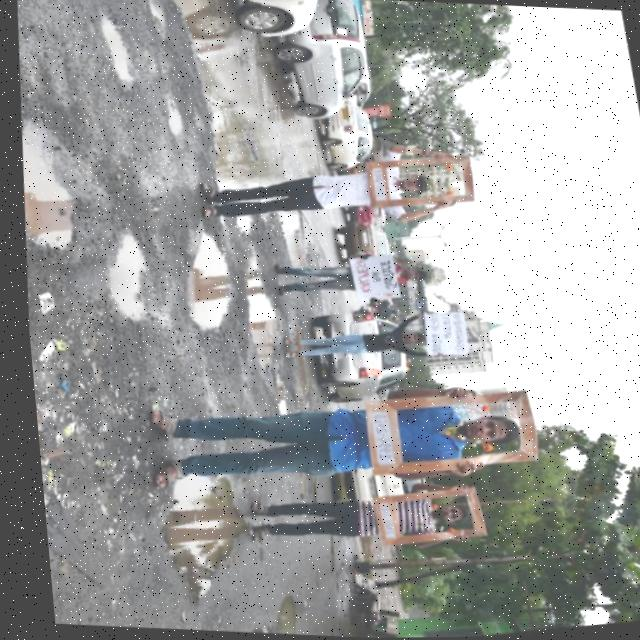Pothole: (8, 72, 100, 262), (139, 461, 248, 571), (195, 119, 269, 240), (161, 220, 237, 335), (221, 248, 292, 371), (88, 230, 161, 325), (216, 584, 304, 636), (87, 12, 146, 89), (267, 205, 311, 273), (279, 323, 318, 396), (141, 0, 186, 42), (153, 93, 189, 143)
